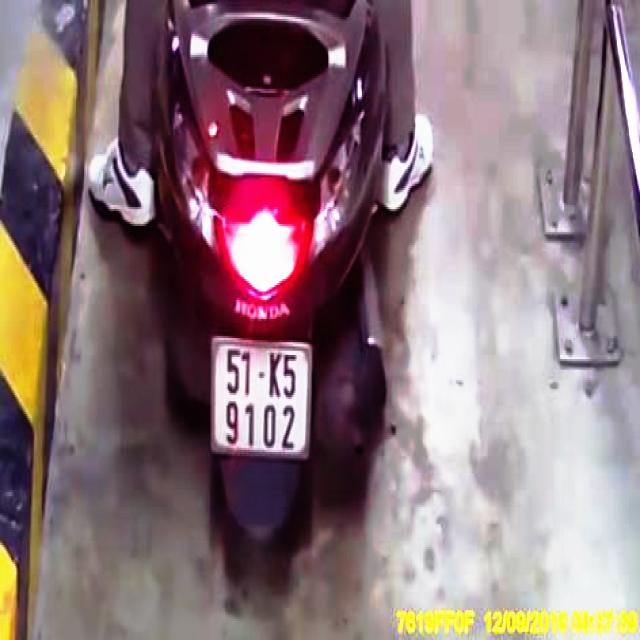license_plate: (212, 339, 314, 459)
